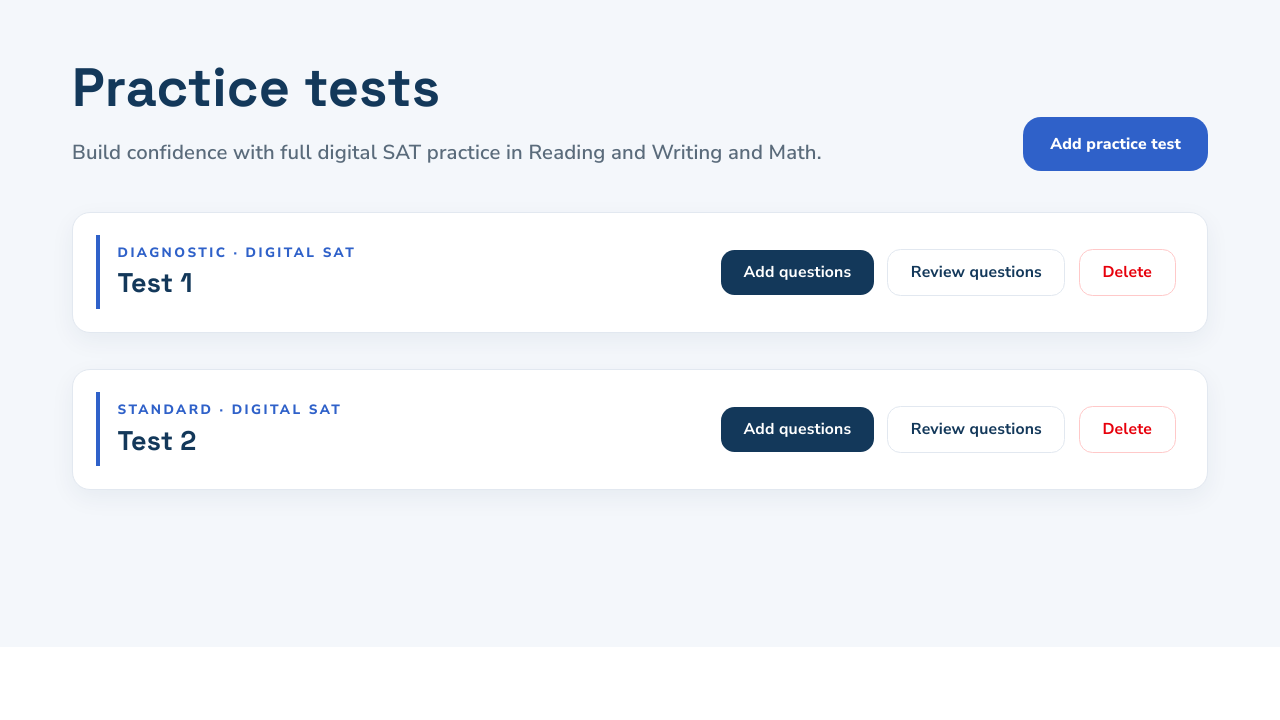
it: PracticeTestsList › shows fallback error for non-error rejection
Expected: the heading "Test 1" is shown, [118, 266, 193, 300]
Click the button "Delete" in the row of "diagnostic" at [1127, 272], box [1079, 249, 1176, 296]
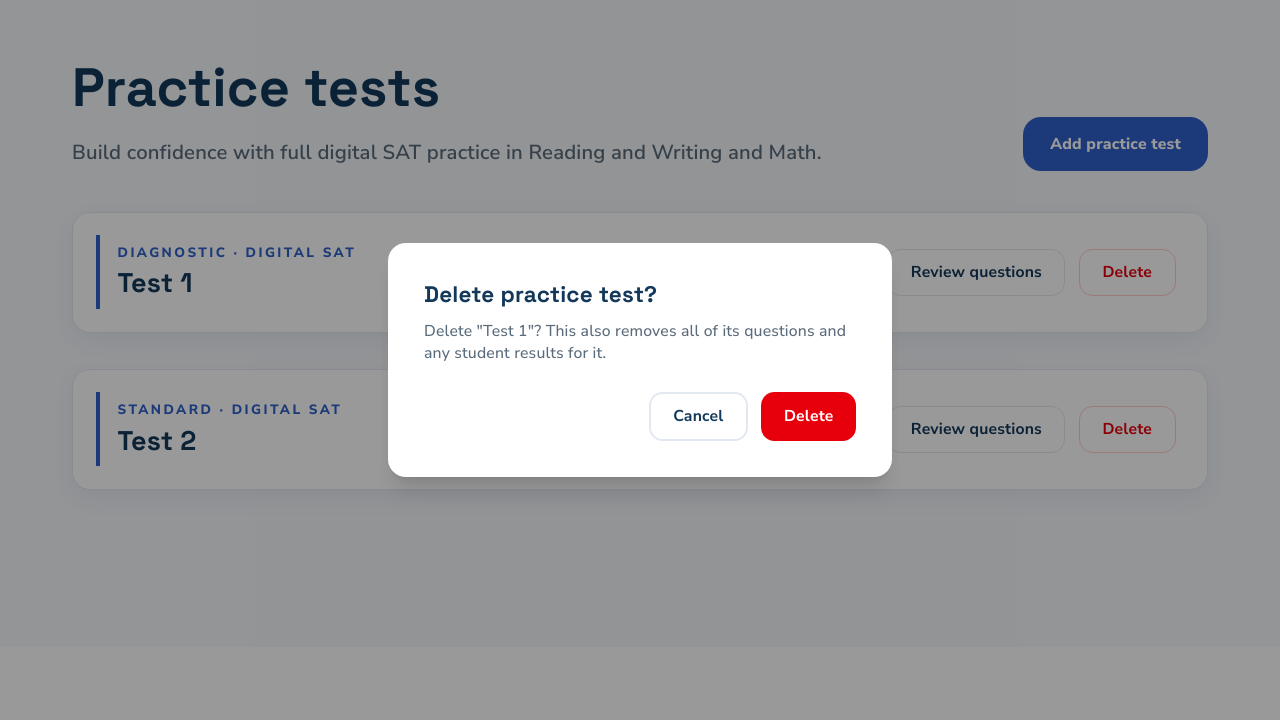
Click the button "Delete" at [809, 416], box [761, 392, 856, 441]
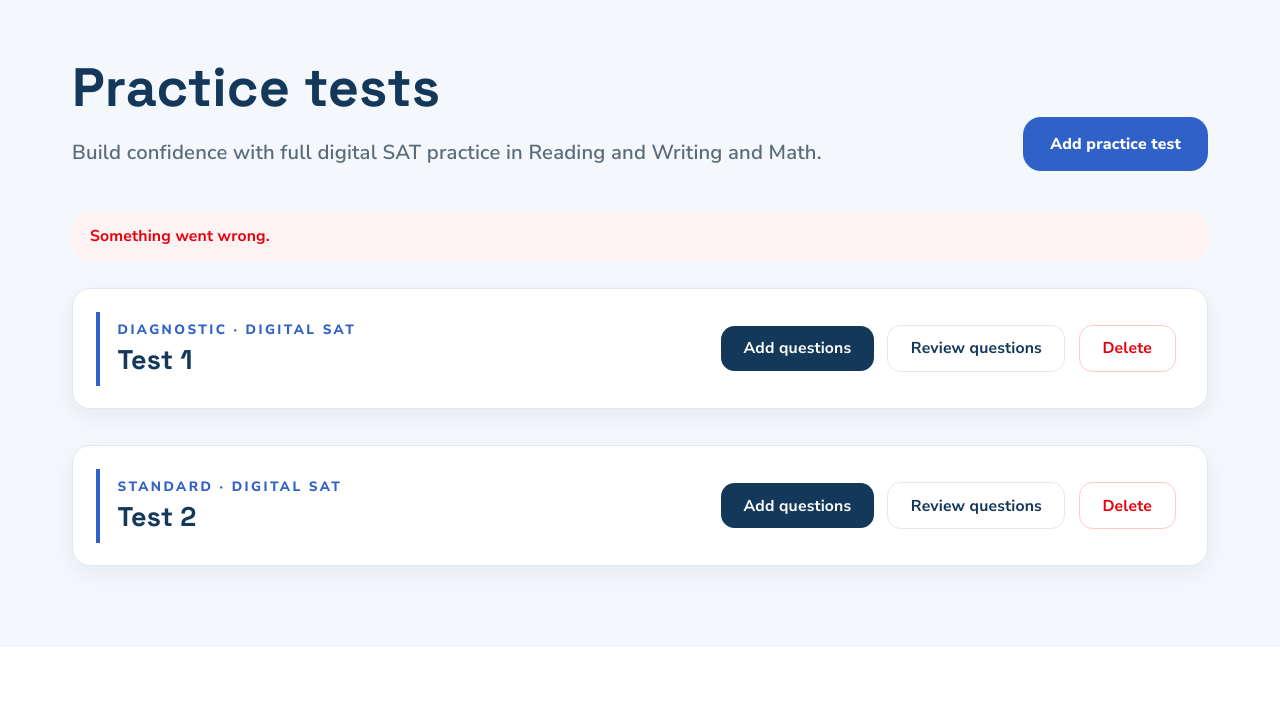
Result: the text "Something went wrong." is shown at [72, 212, 1208, 261]
